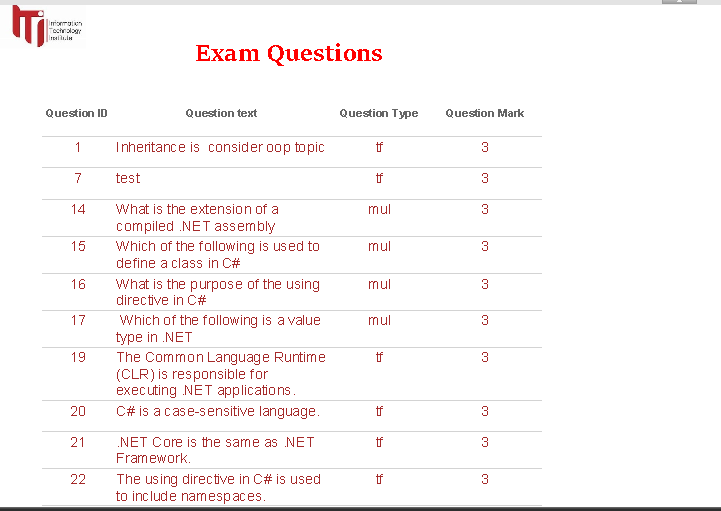

This screenshot's page, from the dashboard's own definition file:
{"tool":"powerbi","page":{"name":"Page 2","canvas":[1280,720],"ordinal":1},"visuals":[{"type":"textbox","box":[100,0,1078.3,85],"z":0},{"type":"tableEx","fields":{"Values":["Query52.Question text","CountNonNull(Query52.Question ID)","Sum(Query52.Question Mark)","Query52.Question Type"]},"box":[46.7,340,1213.3,338.3],"z":1000},{"type":"card","fields":{"Values":["CountNonNull(Query52.Question ID)"]},"box":[100,153.3,216.7,165],"z":2000},{"type":"card","fields":{"Values":["Sum(Query52.Question Mark)"]},"box":[363.3,153.3,233.3,165],"z":3000},{"type":"card","fields":{"Values":["CountNonNull(Query52.Question Type)"]},"box":[653.3,153.3,288.3,165],"z":4000},{"type":"card","fields":{"Values":["CountNonNull(Query52.Question Type)"]},"box":[986.7,153.3,225,165],"z":5000}]}

Visuals, with their boxes on the page's 1280x720 design canvas (x1, y1, x2, y2). These are canvas units, not pixel positions in the 721x511 screenshot, which may show the page scaled, cropped or inside an application window:
textbox: [100, 0, 1178, 85]
tableEx - Query52.Question text x CountNonNull(Query52.Question ID): [47, 340, 1260, 678]
card - CountNonNull(Query52.Question ID): [100, 153, 317, 318]
card - Sum(Query52.Question Mark): [363, 153, 597, 318]
card - CountNonNull(Query52.Question Type): [653, 153, 942, 318]
card - CountNonNull(Query52.Question Type): [987, 153, 1212, 318]
